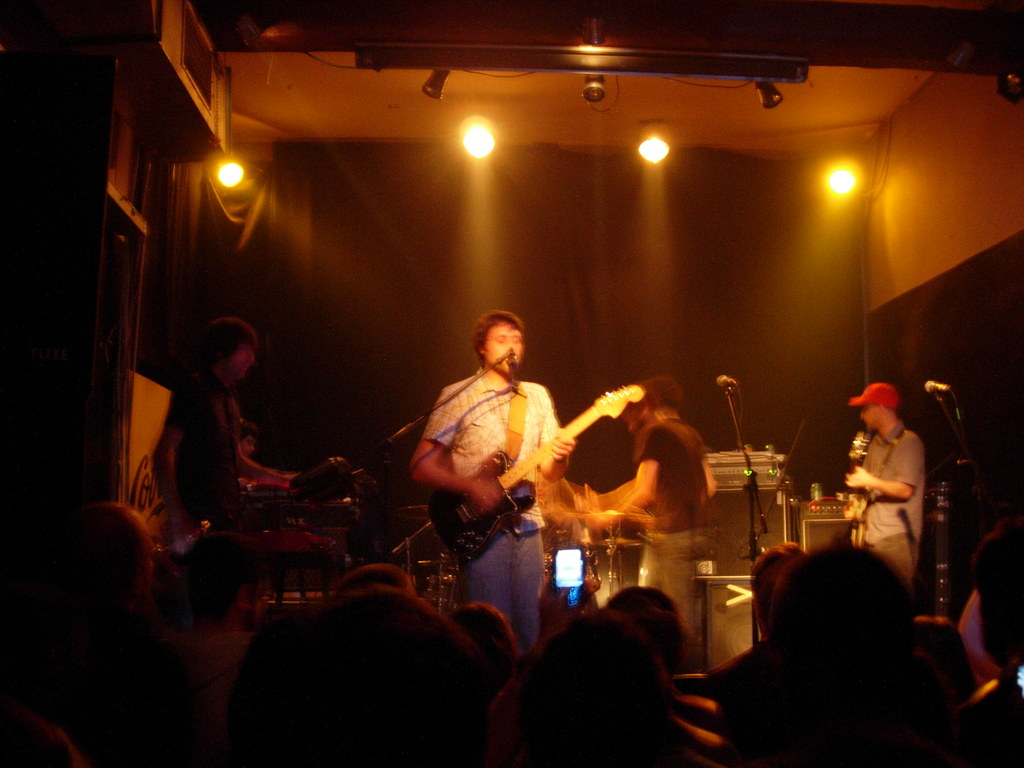face: (469, 309, 529, 376)
